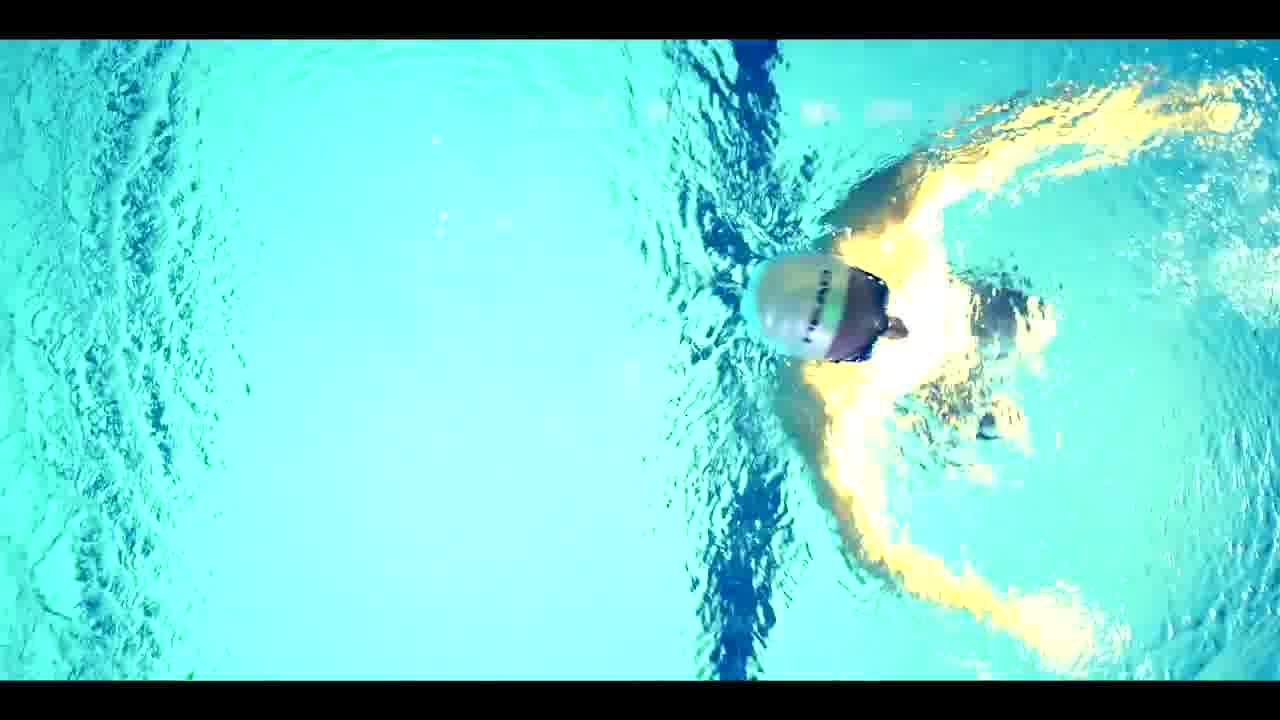swimmer: (748, 85, 1203, 674)
